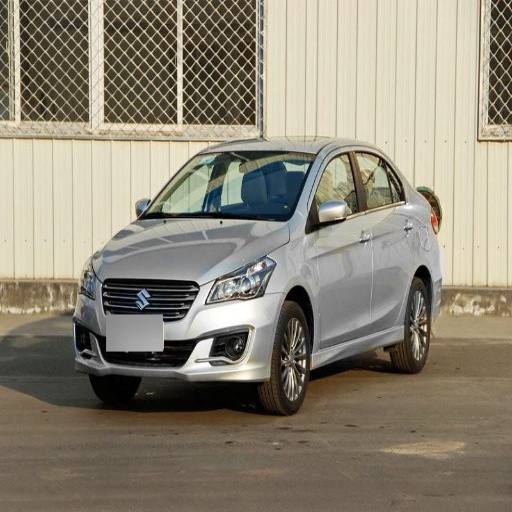back_left_door: (356, 146, 414, 331)
front_bumper: (74, 270, 280, 383)
front_glass: (141, 152, 313, 220)
front_left_door: (309, 147, 373, 345)
